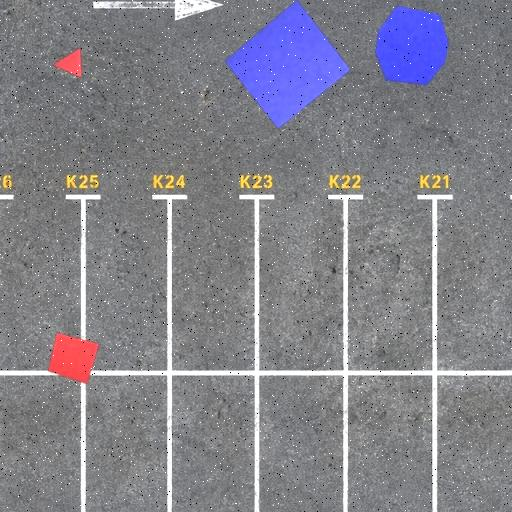BLUE_SQUARE: (224, 0, 351, 130)
RED_SQUARE: (47, 332, 100, 385)
